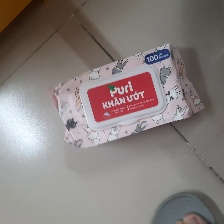Puri hong: (49, 42, 206, 150)
